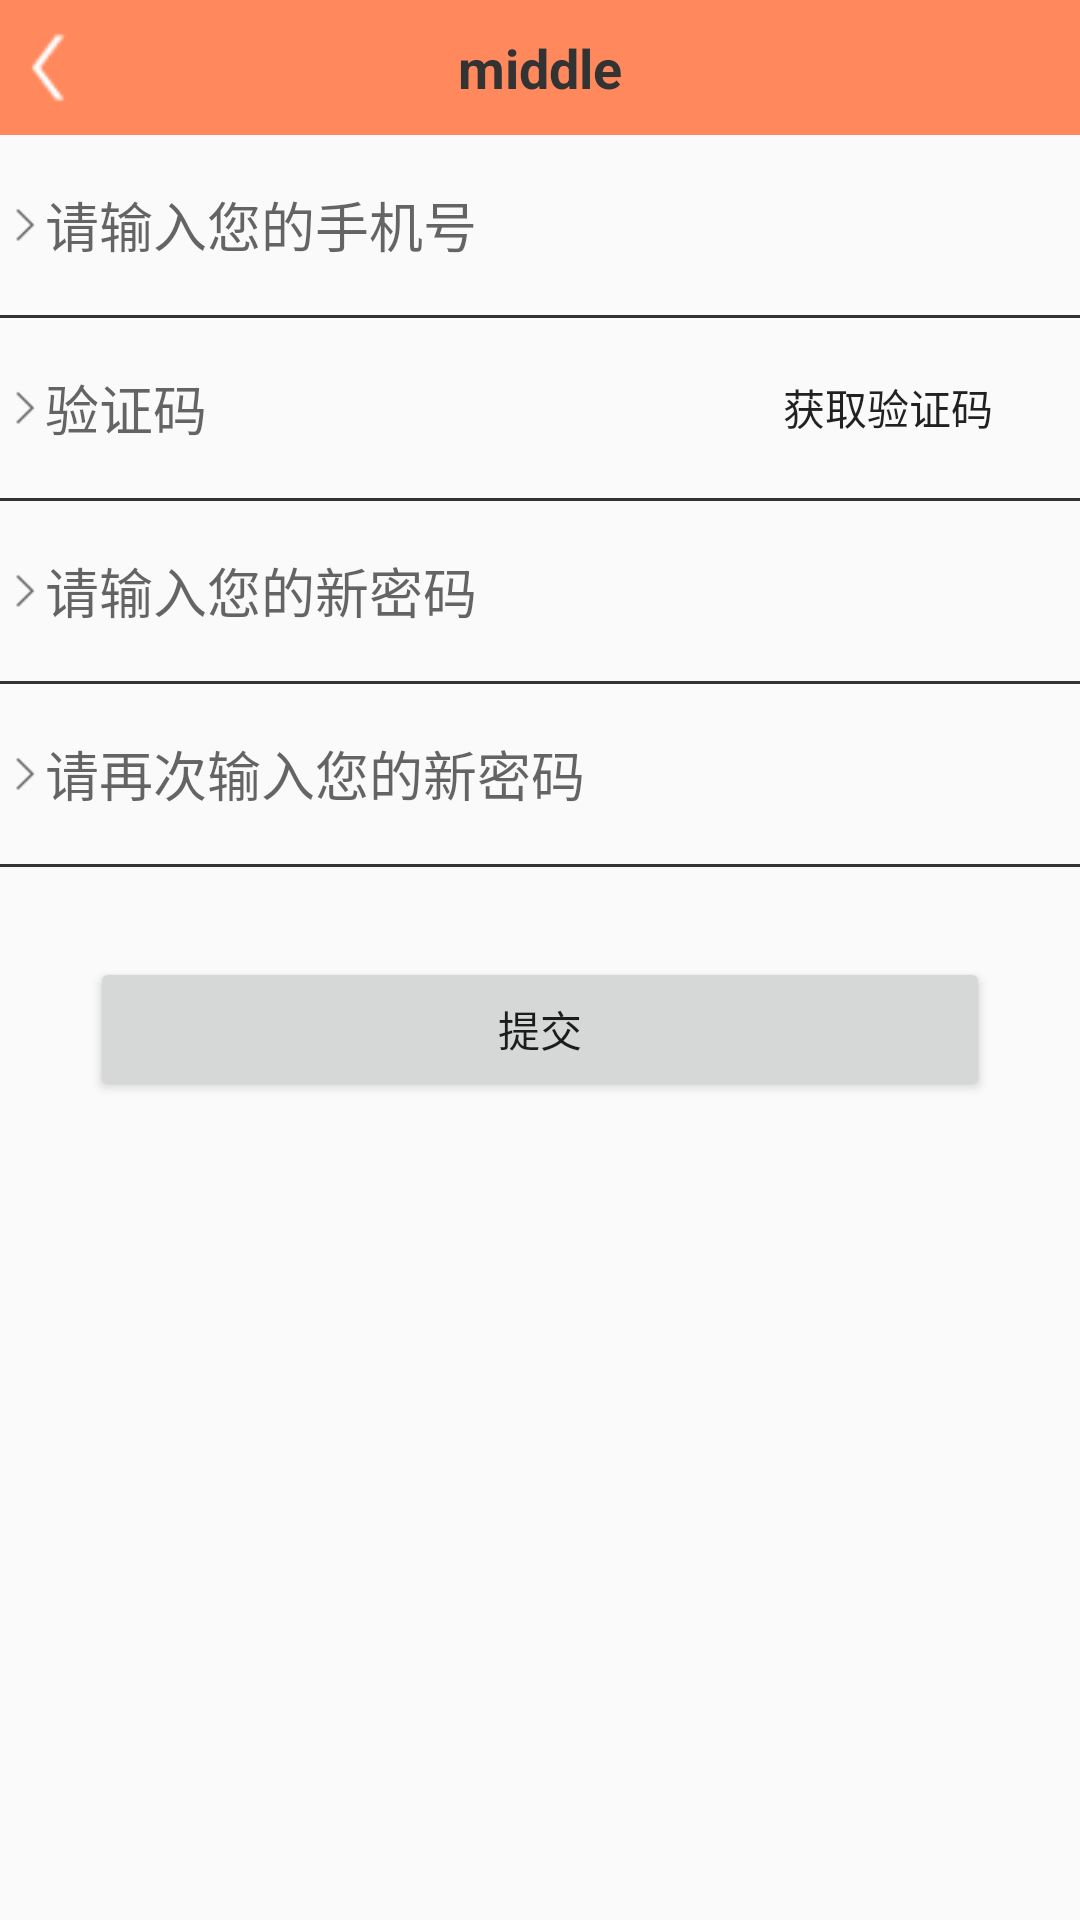

Icon click points for this 1080w x 1920h phone screenshot, format point (x, y):
back: point (48, 67)
